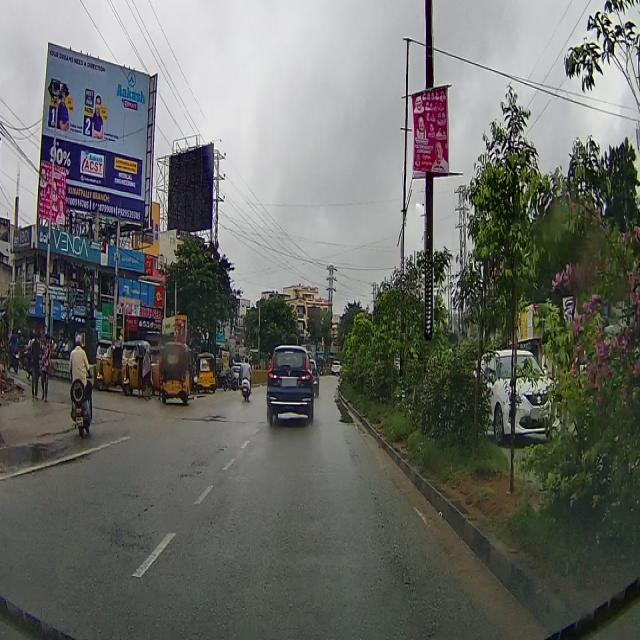auto ahead at: (157, 338, 196, 407)
car ahead at: (265, 338, 316, 433)
motorcycle ahead at: (67, 371, 94, 441)
tree ahead at: (462, 77, 546, 497)
